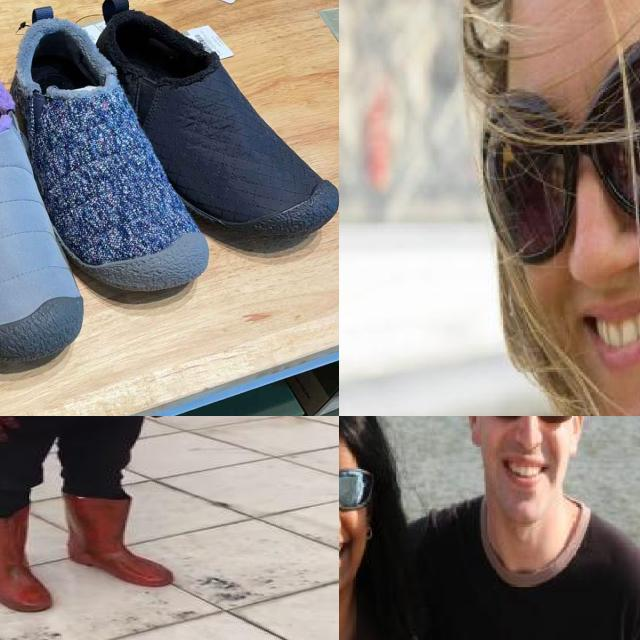Sandals: (0, 0, 227, 319), (72, 0, 339, 246), (0, 18, 108, 384)
boots: (63, 491, 175, 587), (0, 506, 52, 612)
face_nomask: (476, 20, 640, 376), (474, 416, 583, 506), (339, 458, 378, 586)
glasses: (483, 25, 640, 265), (339, 463, 374, 514), (476, 416, 579, 430)
person: (392, 416, 640, 640), (0, 416, 196, 614), (339, 416, 431, 640)
